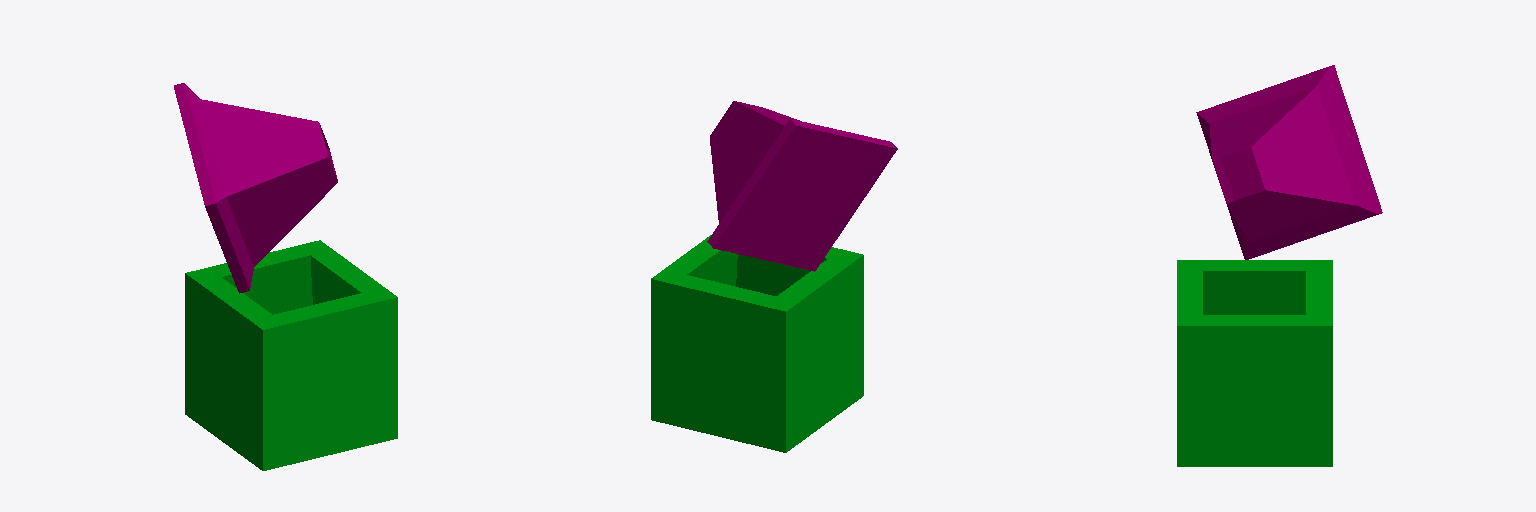
File: AnimatedBox_000124.obj
3 renders of one model, left to right at view 1: azimuth 30°, elevation 25°; view 2: azimuth 150°, elevation 25°; view 3: azimuth 270°, elevation 25°, orthographic.
Parts seen in each view (by area): view 1: Cube, Cube.001; view 2: Cube, Cube.001; view 3: Cube, Cube.001.
Boxes of the visible parts, x1,y1,x2,y2 form: Cube: [185, 240, 397, 470]; Cube.001: [174, 83, 337, 293]; Cube: [651, 235, 863, 452]; Cube.001: [707, 101, 897, 271]; Cube: [1177, 260, 1332, 466]; Cube.001: [1196, 65, 1382, 259].
Size of the model in its own units: 2.68 by 4.72 by 2.64.